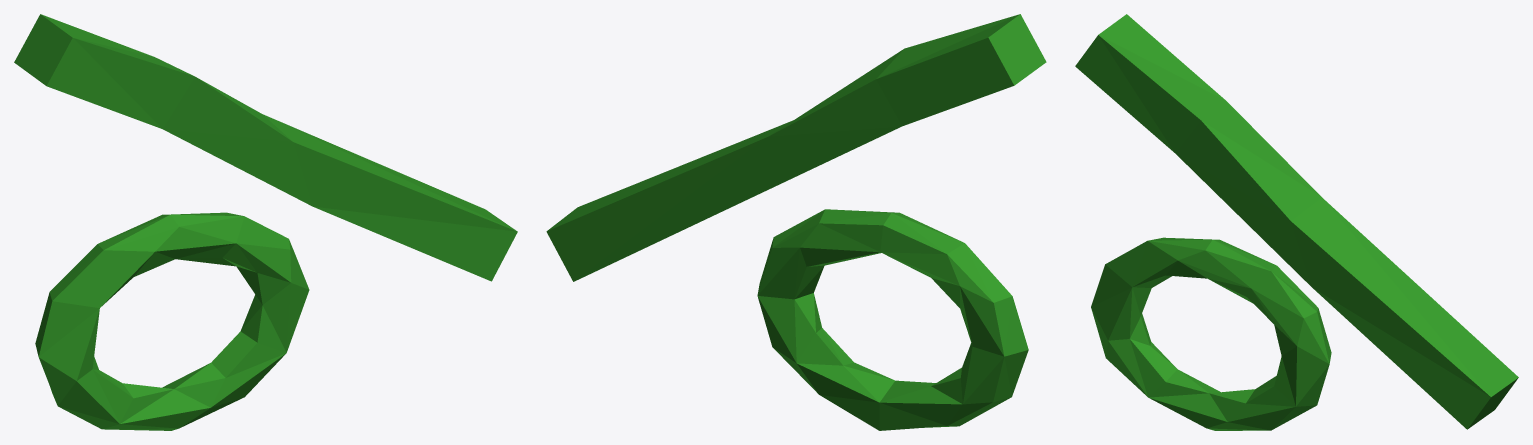
File: DivideZero.fbx
3 views of the same model, side by side, from view 1: azimuth 30°, elevation 25°; view 2: azimuth 150°, elevation 25°; view 3: azimuth 330°, elevation 25° (orthographic). The views are drawn at different scales.
Visible parts, largest first — view 1: Torus; view 2: Torus; view 3: Torus.
Boxes of the visible parts, <box> form: Torus: <box>14,14,517,430</box>; Torus: <box>546,14,1046,430</box>; Torus: <box>1075,14,1518,430</box>.
Size of the model in its own units: 1788 by 1572 by 233.
